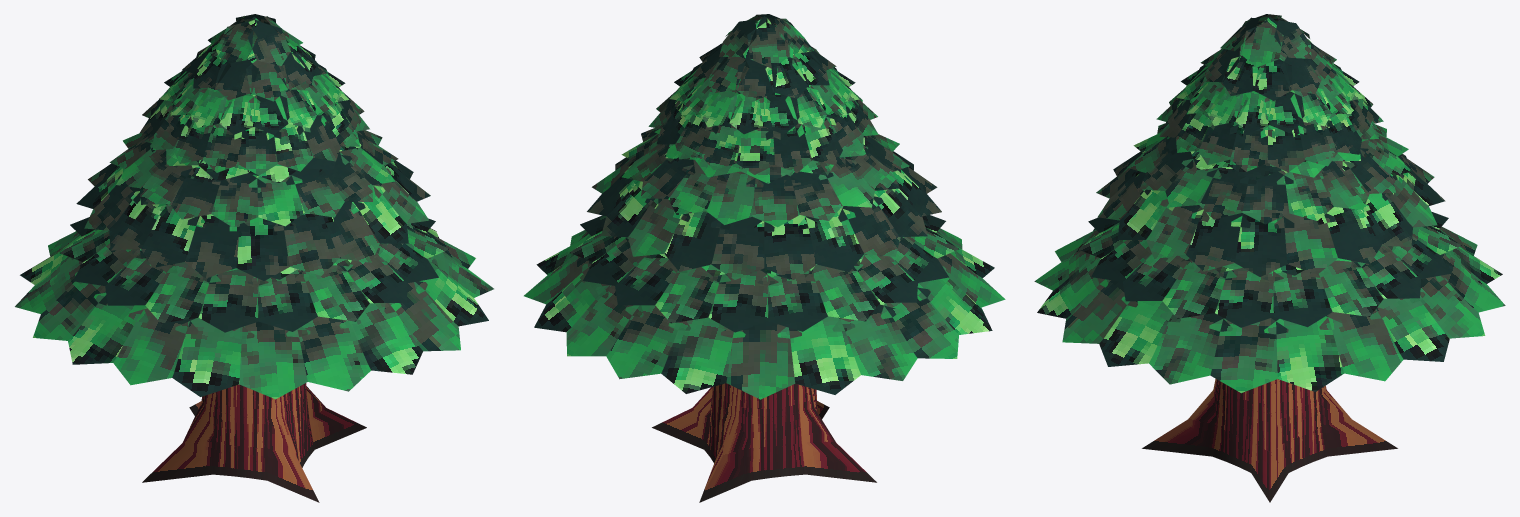
File: tree_dark-forest_001.glb
3 renders of one model, left to right at view 1: azimuth 30°, elevation 25°; view 2: azimuth 150°, elevation 25°; view 3: azimuth 270°, elevation 25°, orthographic.
Visible parts, largest first — view 1: tree_dark-forest_001; view 2: tree_dark-forest_001; view 3: tree_dark-forest_001.
Part boxes in pixels (x1,y1,x2,y2): tree_dark-forest_001: (15,14,493,502); tree_dark-forest_001: (524,14,1005,502); tree_dark-forest_001: (1034,14,1505,502).
Bounding box in the file's own units: 0.9685 × 0.98 × 0.9685.
1 material, 1 textured.
